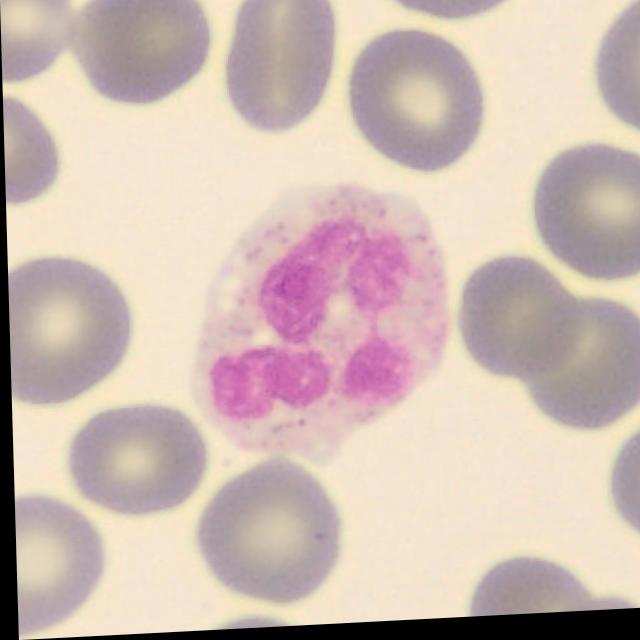Neutrofilo segmentado: (184, 183, 457, 472)
